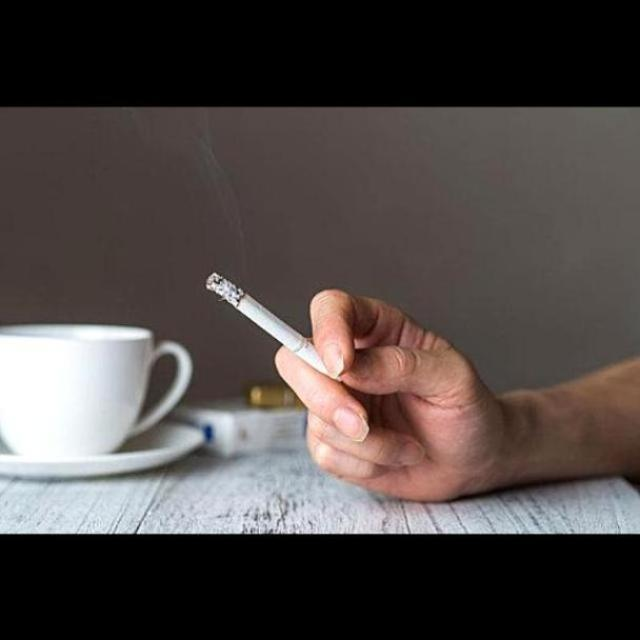rokok: (200, 270, 348, 380)
